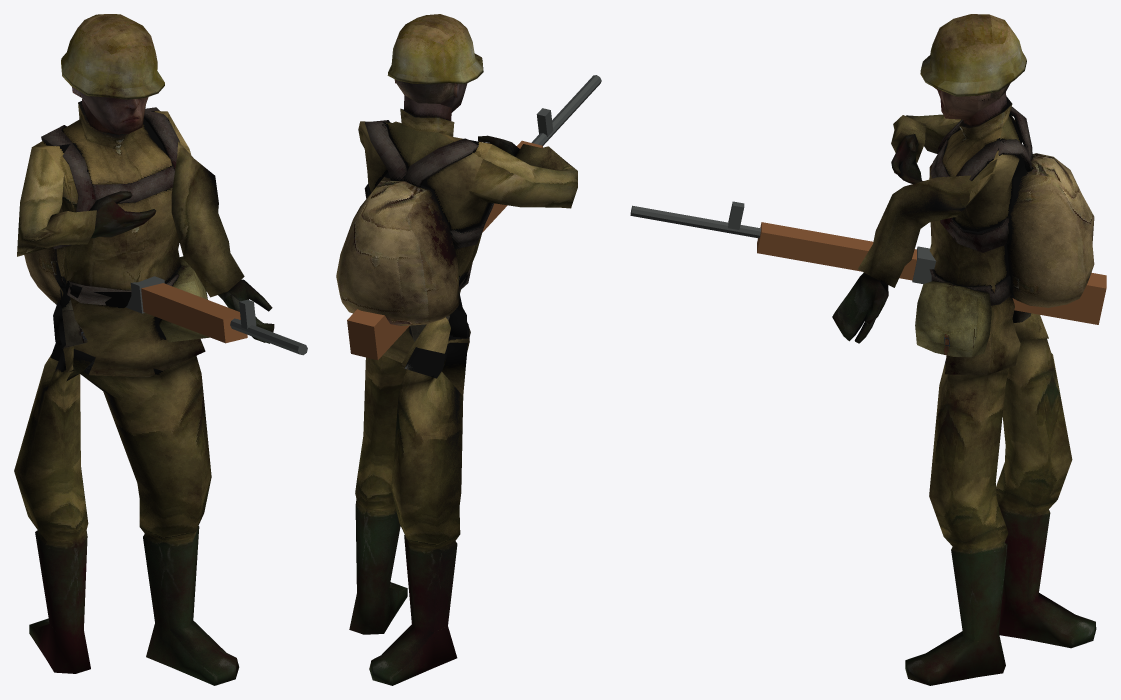
The model's file is soviet_ww2_soldier_walk_00.glb.
3 views of the same model, side by side, from view 1: azimuth 30°, elevation 25°; view 2: azimuth 150°, elevation 25°; view 3: azimuth 270°, elevation 25° (orthographic). The views are drawn at different scales.
Visible parts, largest first — view 1: final_Static, SovietRifle_Generated; view 2: final_Static, SovietRifle_Generated; view 3: final_Static, SovietRifle_Generated.
Part boxes in pixels (box(x1,y1,x2,y2)): final_Static: box(14, 14, 274, 685); SovietRifle_Generated: box(125, 276, 307, 355); final_Static: box(336, 14, 577, 685); SovietRifle_Generated: box(347, 75, 601, 360); final_Static: box(832, 14, 1096, 685); SovietRifle_Generated: box(630, 201, 1106, 324).
Bounding box in the file's own units: 0.6351 × 1.75 × 1.22.
3 materials, 1 textured.
